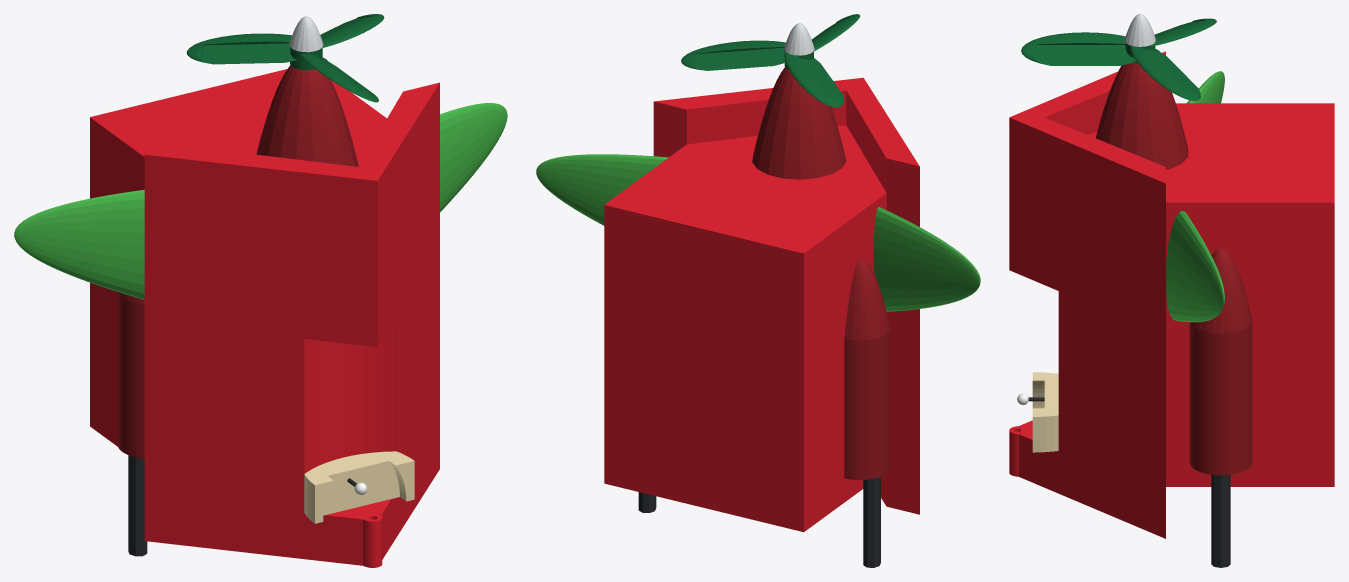
The model's file is tinker.obj.
3 renders of one model, left to right at view 1: azimuth 30°, elevation 25°; view 2: azimuth 150°, elevation 25°; view 3: azimuth 270°, elevation 25°, orthographic. The views are drawn at different scales.
Parts seen in each view (by area): view 1: group_15277357, group_4634441, group_9771553, group_16311991, group_1206582, group_2829873, group_14541540; view 2: group_15277357, group_9771553, group_4634441, group_1206582, group_2829873, group_14541540; view 3: group_15277357, group_9771553, group_1206582, group_4634441, group_16311991, group_2829873, group_14541540.
Part boxes in pixels (x1=…): group_15277357: x1=90, y1=69, x2=439, y2=567; group_4634441: x1=14, y1=103, x2=507, y2=299; group_9771553: x1=117, y1=65, x2=358, y2=458; group_16311991: x1=304, y1=451, x2=414, y2=523; group_1206582: x1=186, y1=14, x2=384, y2=102; group_2829873: x1=128, y1=455, x2=356, y2=556; group_14541540: x1=289, y1=16, x2=323, y2=52; group_15277357: x1=604, y1=77, x2=919, y2=532; group_9771553: x1=752, y1=67, x2=890, y2=479; group_4634441: x1=536, y1=154, x2=980, y2=311; group_1206582: x1=681, y1=14, x2=860, y2=107; group_2829873: x1=638, y1=476, x2=880, y2=567; group_14541540: x1=784, y1=23, x2=814, y2=55; group_15277357: x1=1009, y1=51, x2=1334, y2=538; group_9771553: x1=1095, y1=63, x2=1252, y2=475; group_1206582: x1=1021, y1=18, x2=1216, y2=100; group_4634441: x1=1166, y1=71, x2=1224, y2=322; group_16311991: x1=1032, y1=372, x2=1058, y2=452; group_2829873: x1=1028, y1=397, x2=1230, y2=567; group_14541540: x1=1124, y1=14, x2=1155, y2=46.
Bounding box in the file's own units: 133 × 139 × 83.
